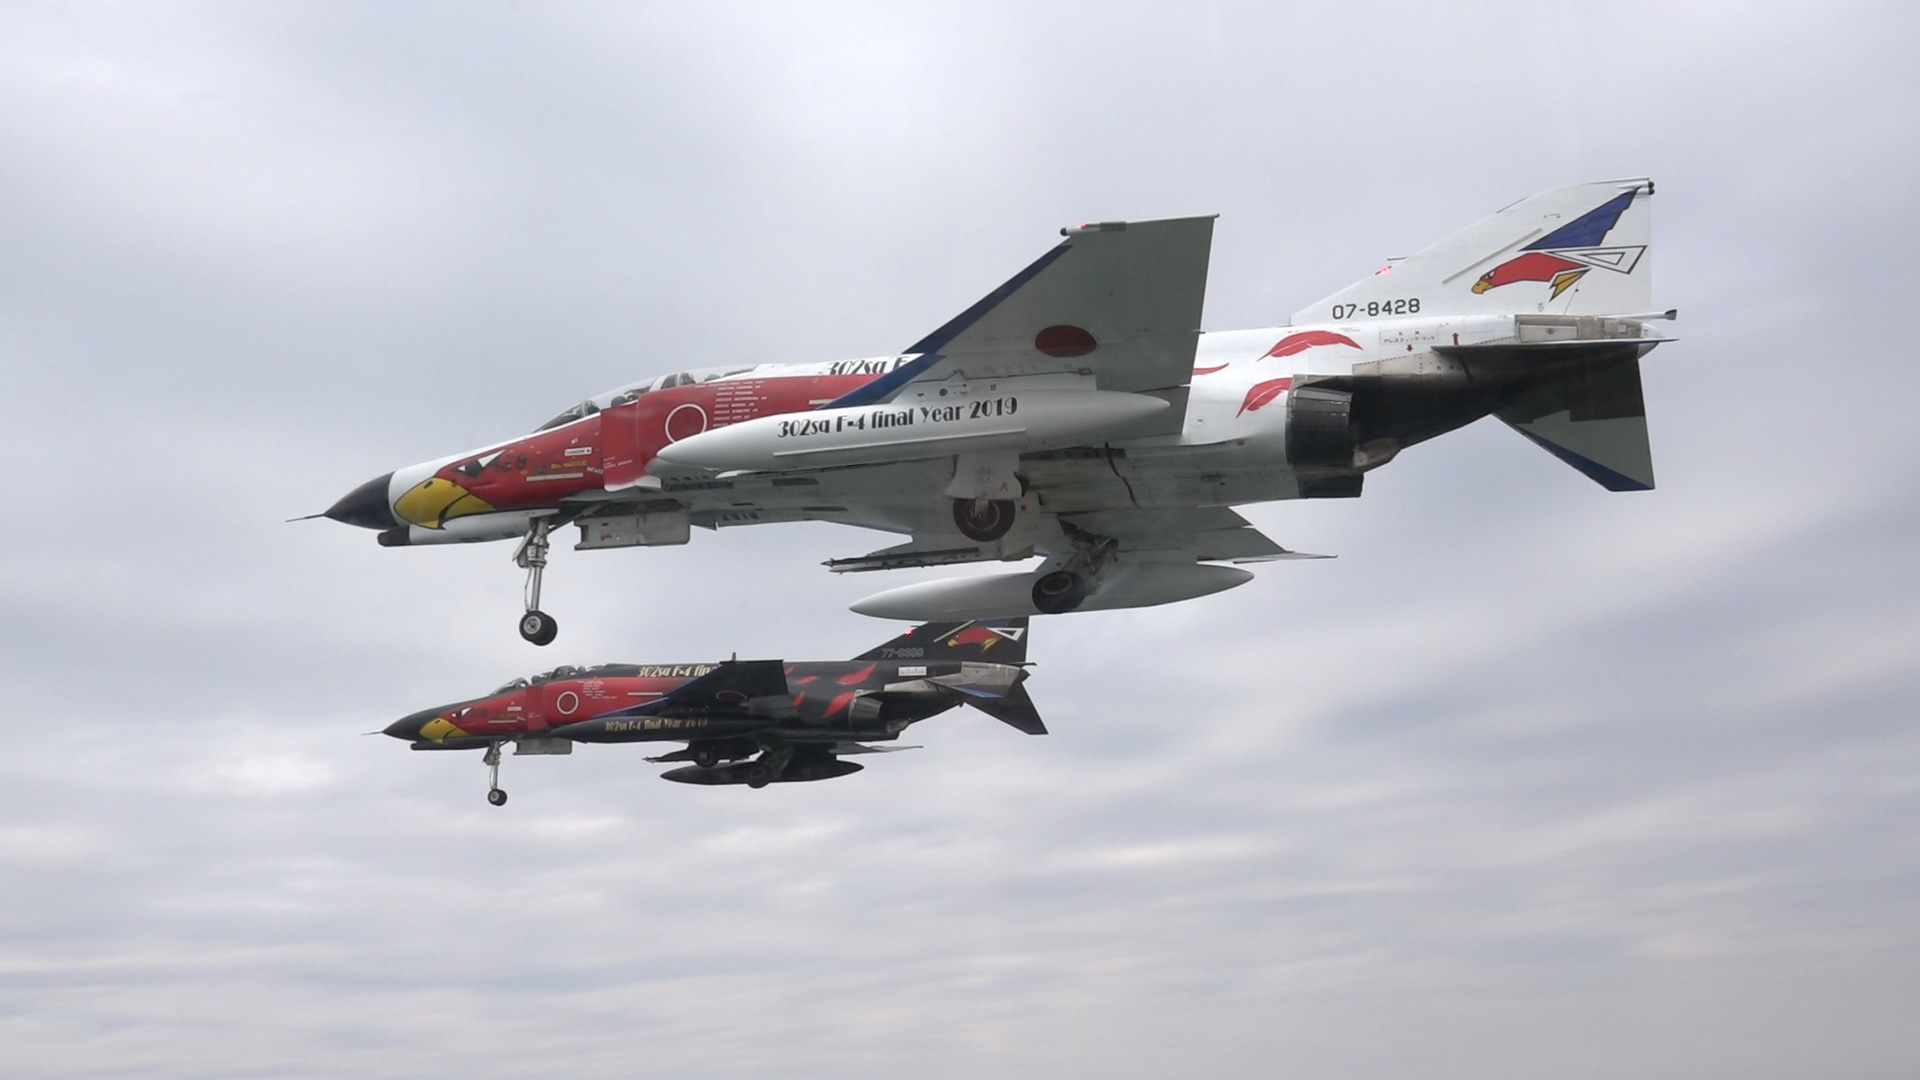F4: (285, 175, 1680, 622), (360, 615, 1048, 807)
